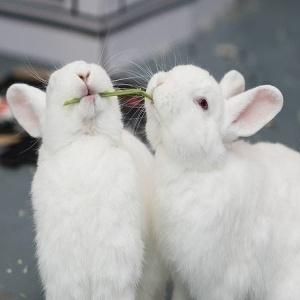rabbit: (7, 61, 299, 299)
